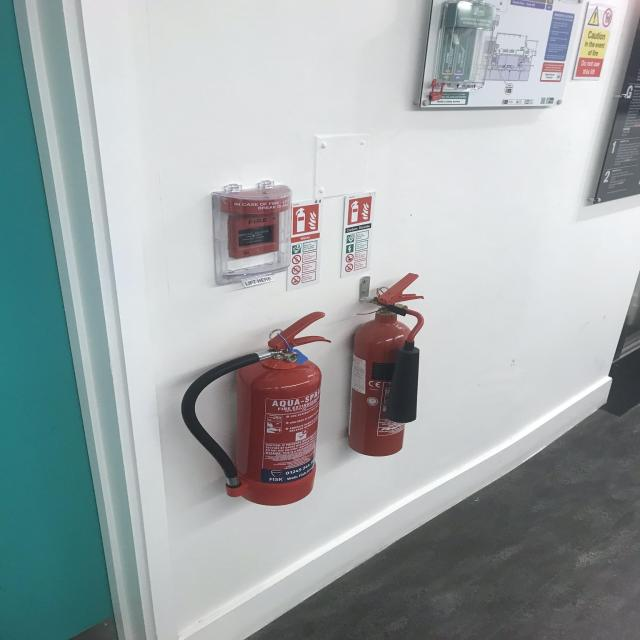fire_extinguisher: (177, 310, 335, 508), (339, 271, 432, 458)
